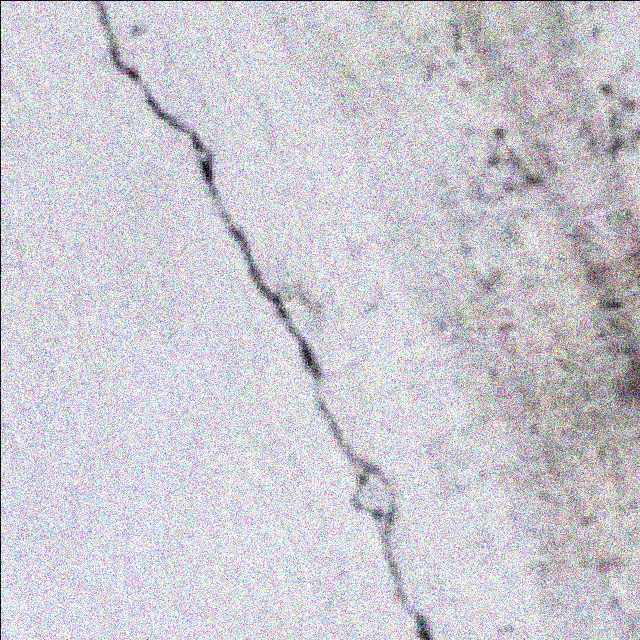SurfaceCrack: (84, 0, 436, 640)
